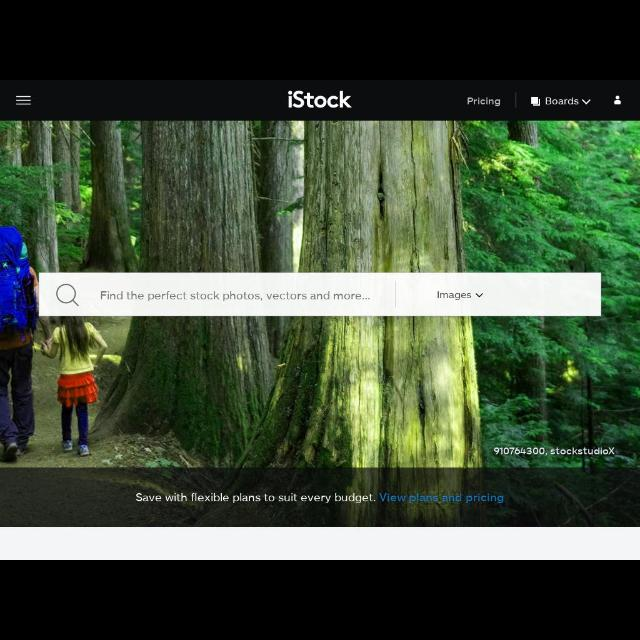backgroundimage: (1, 121, 639, 527)
icon: (56, 283, 80, 307), (16, 95, 32, 107), (530, 96, 542, 106), (614, 96, 622, 106), (476, 292, 484, 298), (582, 100, 590, 104)
image: (287, 90, 351, 108)
input: (39, 272, 601, 316)
spinner: (544, 94, 590, 106)
text: (136, 492, 504, 504), (102, 290, 370, 302), (494, 446, 616, 456), (468, 97, 500, 107), (438, 291, 472, 299), (545, 97, 579, 105)
toolbar: (1, 80, 640, 120)
